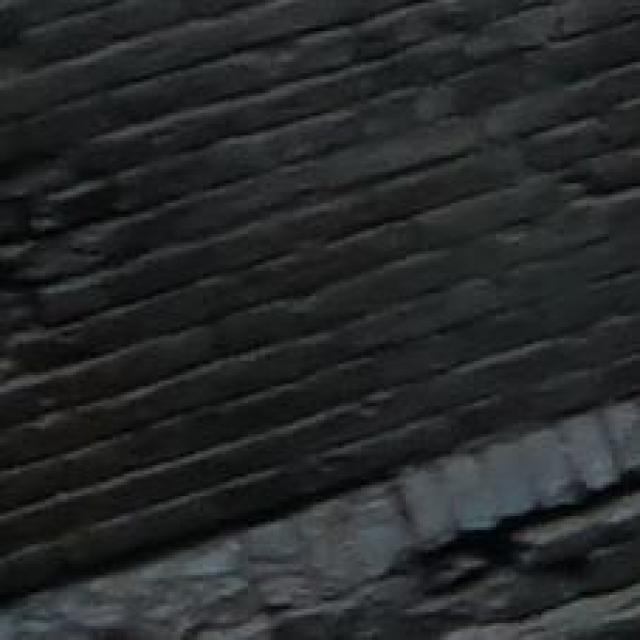Crack: (0, 59, 131, 444)
